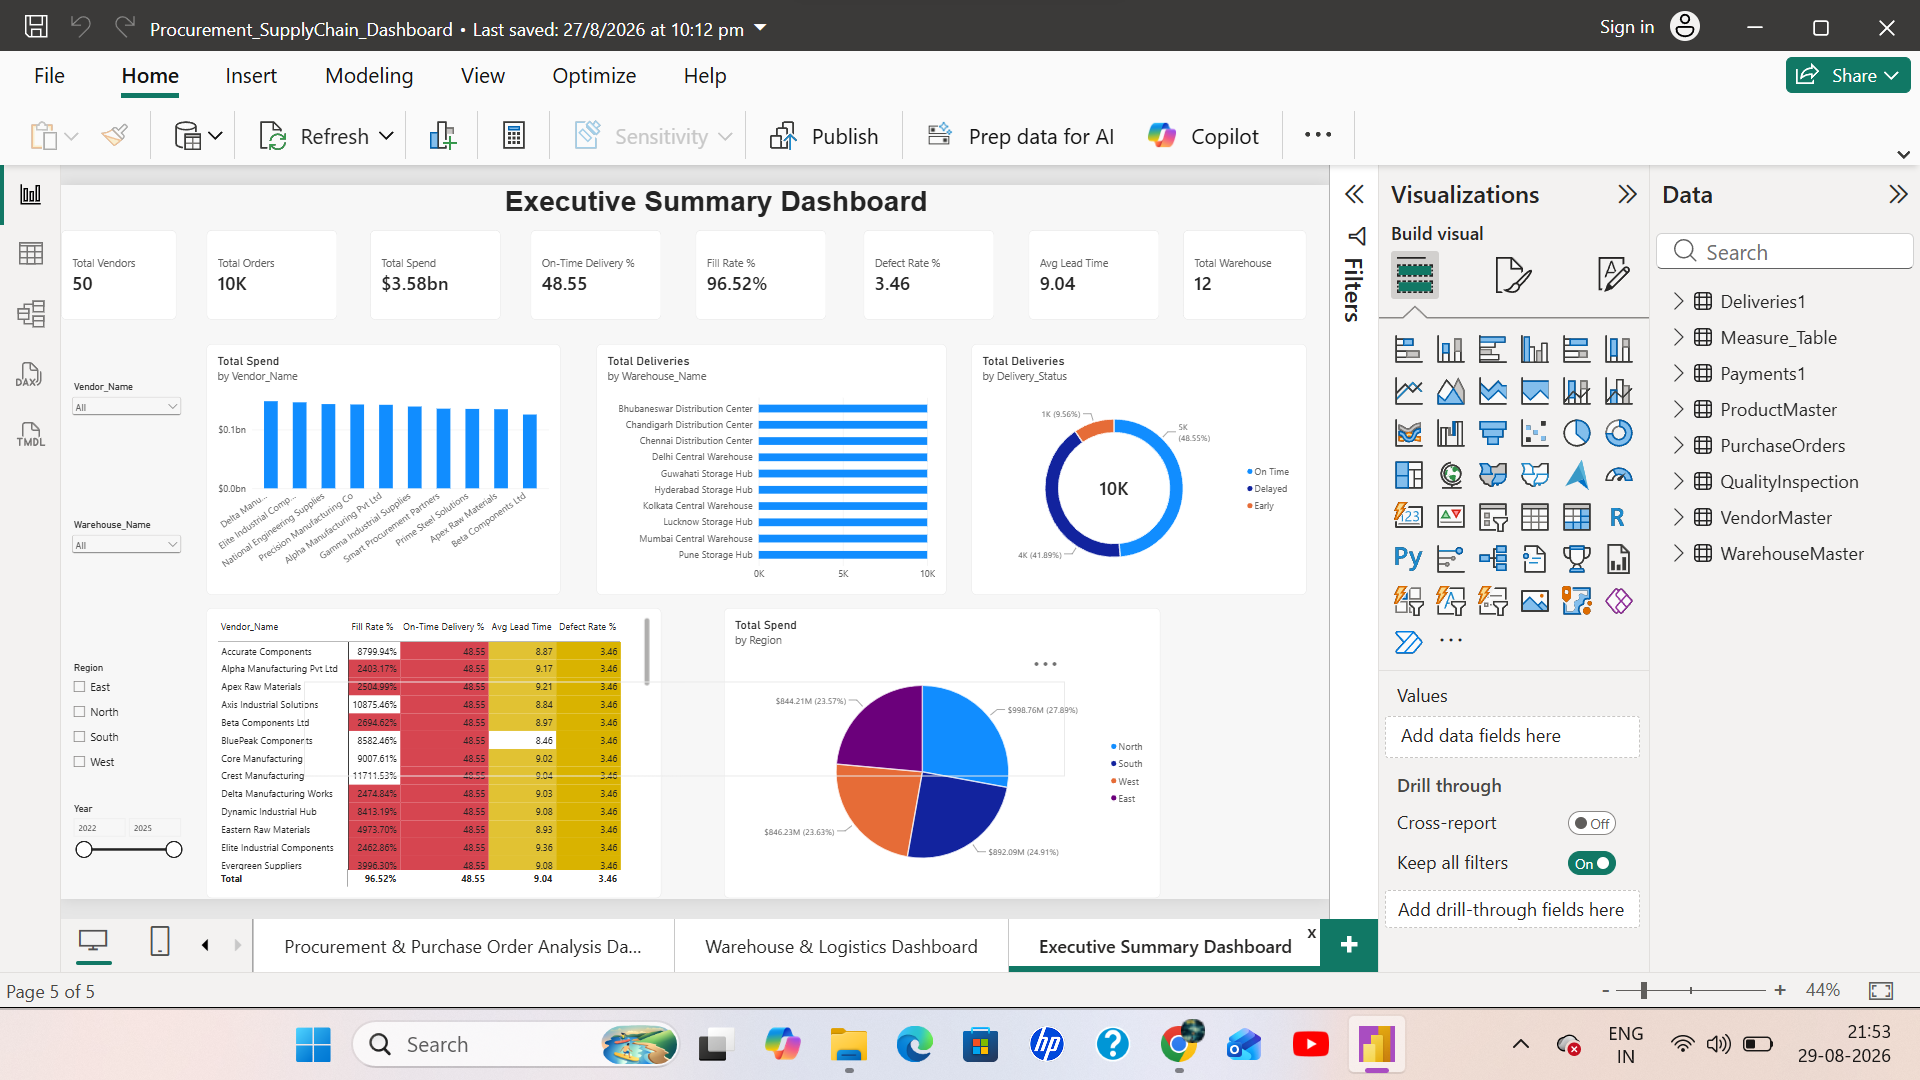

This screenshot's page, from the dashboard's own definition file:
{"tool":"powerbi","page":{"name":"Executive Summary Dashboard","canvas":[1920,1080],"ordinal":4},"visuals":[{"type":"cardVisual","fields":{"Data":["Measure_Table.Total Vendors"]},"box":[0,68,175.7,136.1],"z":0},{"type":"cardVisual","fields":{"Data":["Measure_Table.Total Orders"]},"box":[221.1,68,198.4,136.1],"z":1},{"type":"cardVisual","fields":{"Data":["Measure_Table.Total Spend"]},"box":[467.7,68,198.4,136.1],"z":2},{"type":"cardVisual","fields":{"Data":["Measure_Table.On-Time Delivery %"]},"box":[711.5,68,198.4,136.1],"z":3},{"type":"cardVisual","fields":{"Data":["Measure_Table.Fill Rate %"]},"box":[961,68,198.4,136.1],"z":4},{"type":"cardVisual","fields":{"Data":["Measure_Table.Defect Rate %"]},"box":[1216.1,68,198.4,136.1],"z":5},{"type":"cardVisual","fields":{"Data":["Deliveries1.Avg Lead Time"]},"box":[1465.5,68,198.4,136.1],"z":6},{"type":"cardVisual","fields":{"Data":["Measure_Table.Total Warehouse"]},"box":[1698,68,187.1,136.1],"z":7},{"type":"clusteredColumnChart","fields":{"Category":["VendorMaster.Vendor_Name"],"Y":["Measure_Table.Total Spend"]},"box":[221.1,240.9,535.8,379.8],"z":8},{"type":"barChart","fields":{"Category":["WarehouseMaster.Warehouse_Name"],"Y":["Measure_Table.Total Deliveries"]},"box":[810.7,240.9,530.1,379.8],"z":9},{"type":"donutChart","fields":{"Category":["Deliveries1.Delivery_Status"],"Y":["Measure_Table.Total Deliveries"]},"box":[1377.6,240.9,507.4,379.8],"z":10},{"type":"pivotTable","fields":{"Rows":["VendorMaster.Vendor_Name"],"Values":["Measure_Table.Fill Rate %","Measure_Table.On-Time Delivery %","Deliveries1.Avg Lead Time","Measure_Table.Defect Rate %"]},"box":[221.1,640.6,688.8,439.4],"z":11},{"type":"pieChart","fields":{"Category":["VendorMaster.Region"],"Y":["Measure_Table.Total Spend"]},"box":[1003.5,640.6,660.5,439.4],"z":12},{"type":"slicer","fields":{"Values":["VendorMaster.Vendor_Name"]},"box":[11.3,297.6,175.7,189.9],"z":13},{"type":"slicer","fields":{"Values":["WarehouseMaster.Warehouse_Name"]},"box":[11.3,507.4,175.7,215.4],"z":14},{"type":"slicer","fields":{"Values":["VendorMaster.Region"]},"box":[11.3,722.8,175.7,172.9],"z":15},{"type":"slicer","fields":{"Values":["VendorMaster.Contract_Start_Date.Variation.Date Hierarchy.Year"]},"box":[11.3,935.4,175.7,144.6],"z":16},{"type":"textbox","box":[368.5,751.2,1150.9,144.6],"z":17},{"type":"textbox","box":[1663.9,640.6,221.1,170.1],"z":18},{"type":"textbox","box":[1663.9,28.3,221.1,1051.7],"z":19},{"type":"textbox","box":[320.3,0,1343.6,68],"z":20}]}

Visuals, with their boxes on the page's 1920x1080 design canvas (x1, y1, x2, y2). These are canvas units, not pixel positions in the 1920x1080 screenshot, which may show the page scaled, cropped or inside an application window:
cardVisual - Measure_Table.Total Vendors: select_region(0, 68, 176, 204)
cardVisual - Measure_Table.Total Orders: select_region(221, 68, 420, 204)
cardVisual - Measure_Table.Total Spend: select_region(468, 68, 666, 204)
cardVisual - Measure_Table.On-Time Delivery %: select_region(712, 68, 910, 204)
cardVisual - Measure_Table.Fill Rate %: select_region(961, 68, 1159, 204)
cardVisual - Measure_Table.Defect Rate %: select_region(1216, 68, 1414, 204)
cardVisual - Deliveries1.Avg Lead Time: select_region(1466, 68, 1664, 204)
cardVisual - Measure_Table.Total Warehouse: select_region(1698, 68, 1885, 204)
clusteredColumnChart - VendorMaster.Vendor_Name x Measure_Table.Total Spend: select_region(221, 241, 757, 621)
barChart - WarehouseMaster.Warehouse_Name x Measure_Table.Total Deliveries: select_region(811, 241, 1341, 621)
donutChart - Deliveries1.Delivery_Status x Measure_Table.Total Deliveries: select_region(1378, 241, 1885, 621)
pivotTable - VendorMaster.Vendor_Name x Measure_Table.Fill Rate %: select_region(221, 641, 910, 1080)
pieChart - VendorMaster.Region x Measure_Table.Total Spend: select_region(1004, 641, 1664, 1080)
slicer - VendorMaster.Vendor_Name: select_region(11, 298, 187, 488)
slicer - WarehouseMaster.Warehouse_Name: select_region(11, 507, 187, 723)
slicer - VendorMaster.Region: select_region(11, 723, 187, 896)
slicer - VendorMaster.Contract_Start_Date.Variation.Date Hierarchy.Year: select_region(11, 935, 187, 1080)
textbox: select_region(368, 751, 1519, 896)
textbox: select_region(1664, 641, 1885, 811)
textbox: select_region(1664, 28, 1885, 1080)
textbox: select_region(320, 0, 1664, 68)
